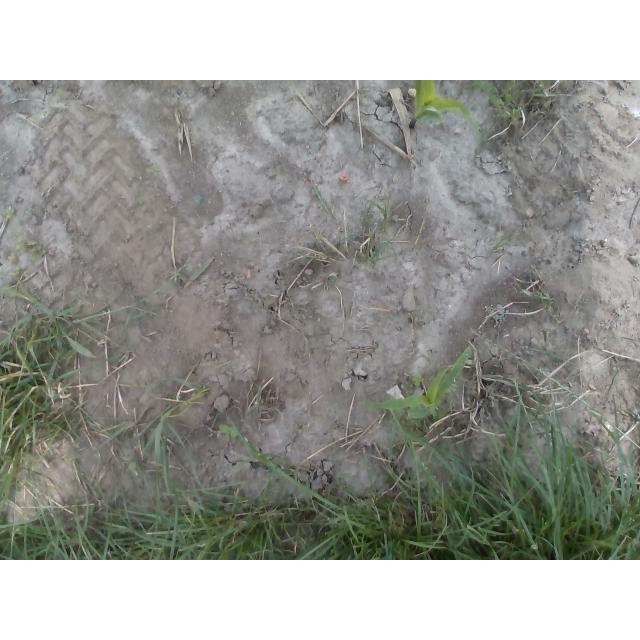Maize: (358, 347, 474, 425), (411, 80, 486, 144)
Weeds: (16, 236, 47, 259), (496, 232, 513, 253), (218, 422, 239, 439), (127, 455, 141, 474), (144, 163, 161, 176), (0, 205, 14, 218), (414, 372, 423, 387)
